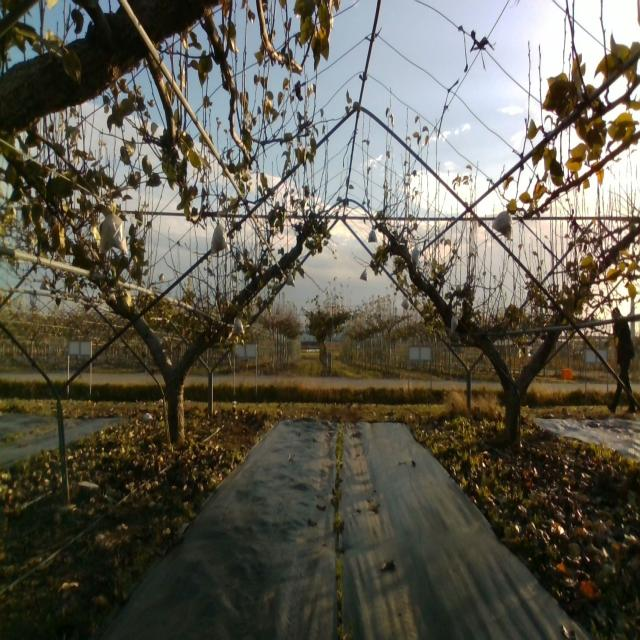pearbags: (98, 203, 126, 257), (209, 216, 228, 254), (492, 205, 515, 236), (410, 241, 421, 264), (234, 317, 244, 338), (367, 225, 378, 243)
